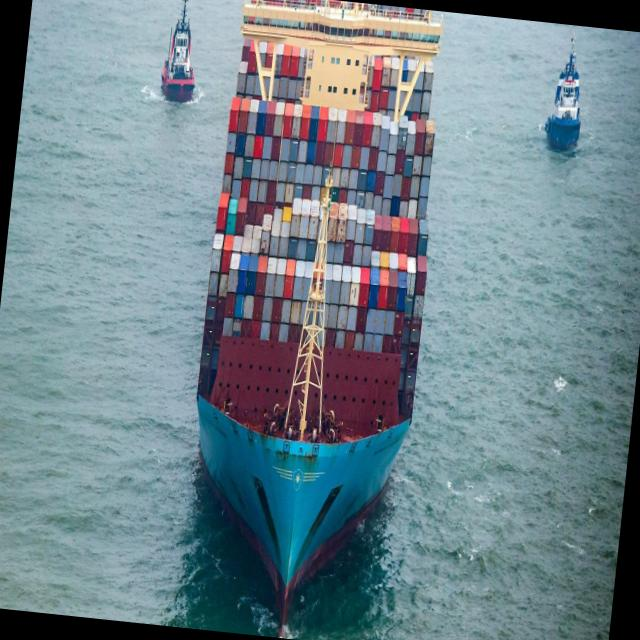boat: (165, 0, 462, 640)
